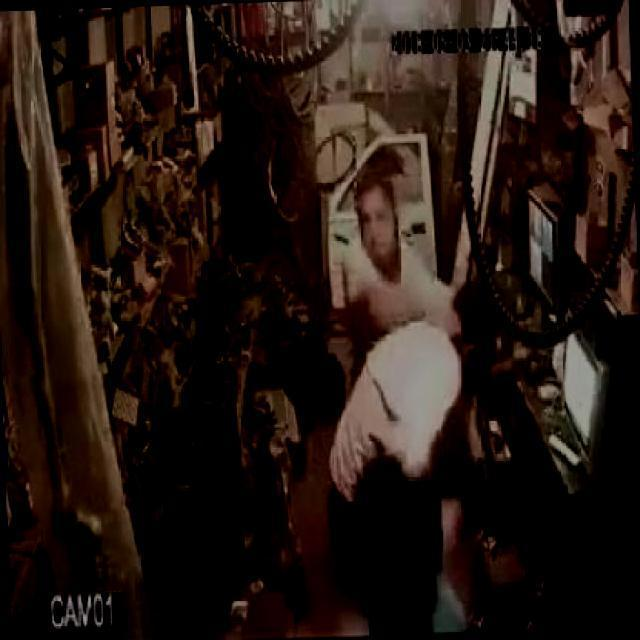fight: (316, 166, 507, 614)
